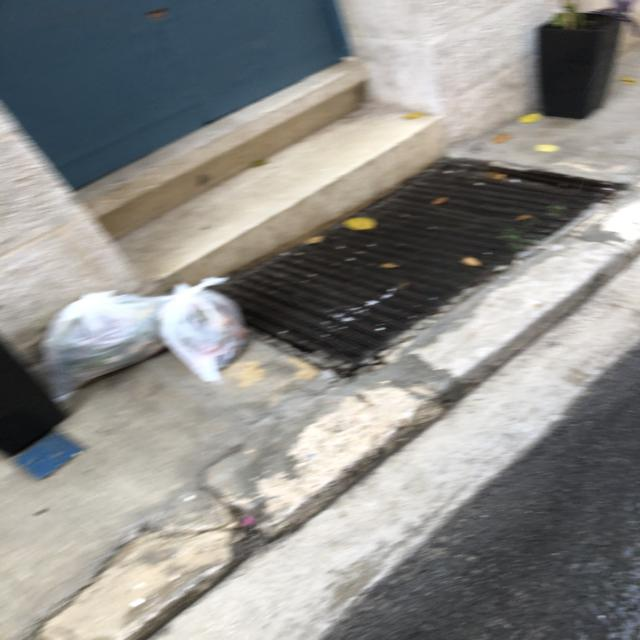Organic Waste -White Bag-: (44, 293, 164, 400), (159, 278, 247, 382)
